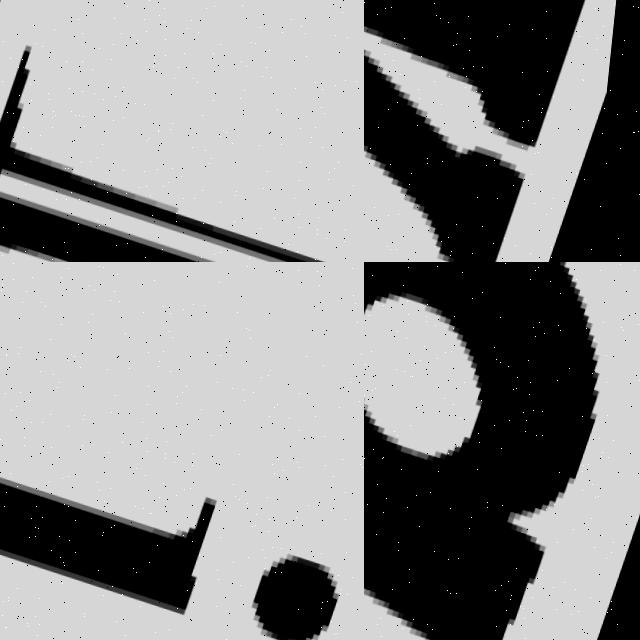1: (0, 32, 364, 262)
G: (364, 262, 640, 640)
J: (0, 299, 364, 640)
V: (364, 0, 640, 262)
